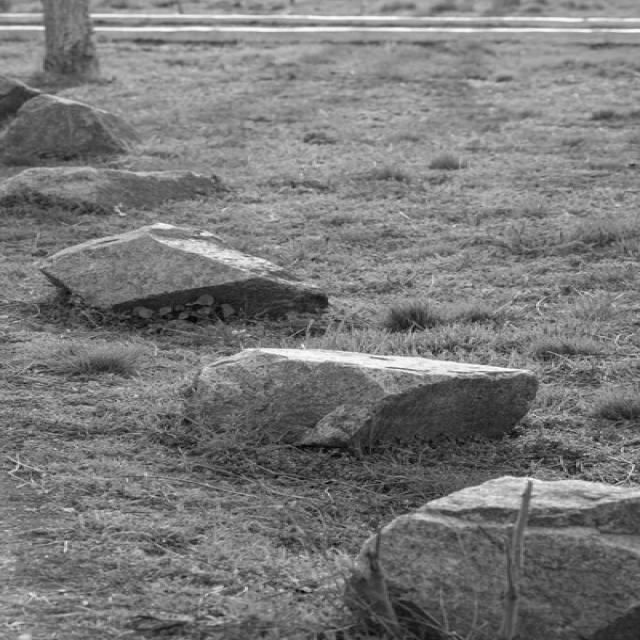Stone: (356, 465, 640, 640), (187, 349, 538, 447), (38, 223, 328, 317), (0, 166, 214, 209), (0, 94, 142, 153)
